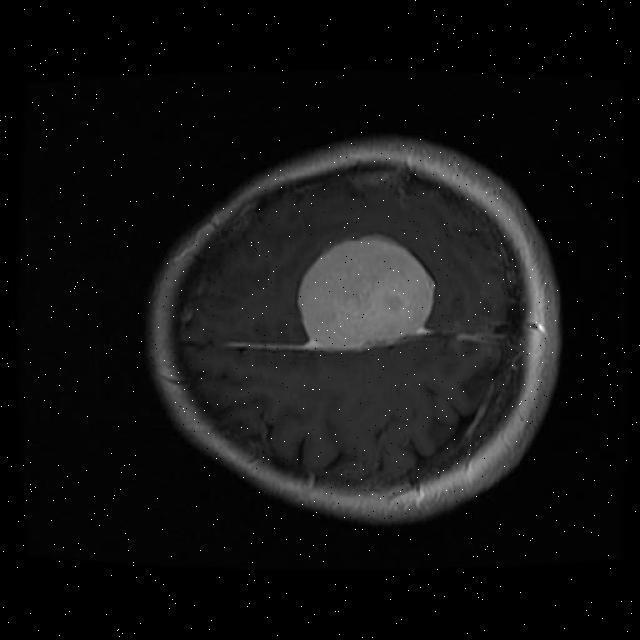Meningioma: (298, 236, 434, 350)
